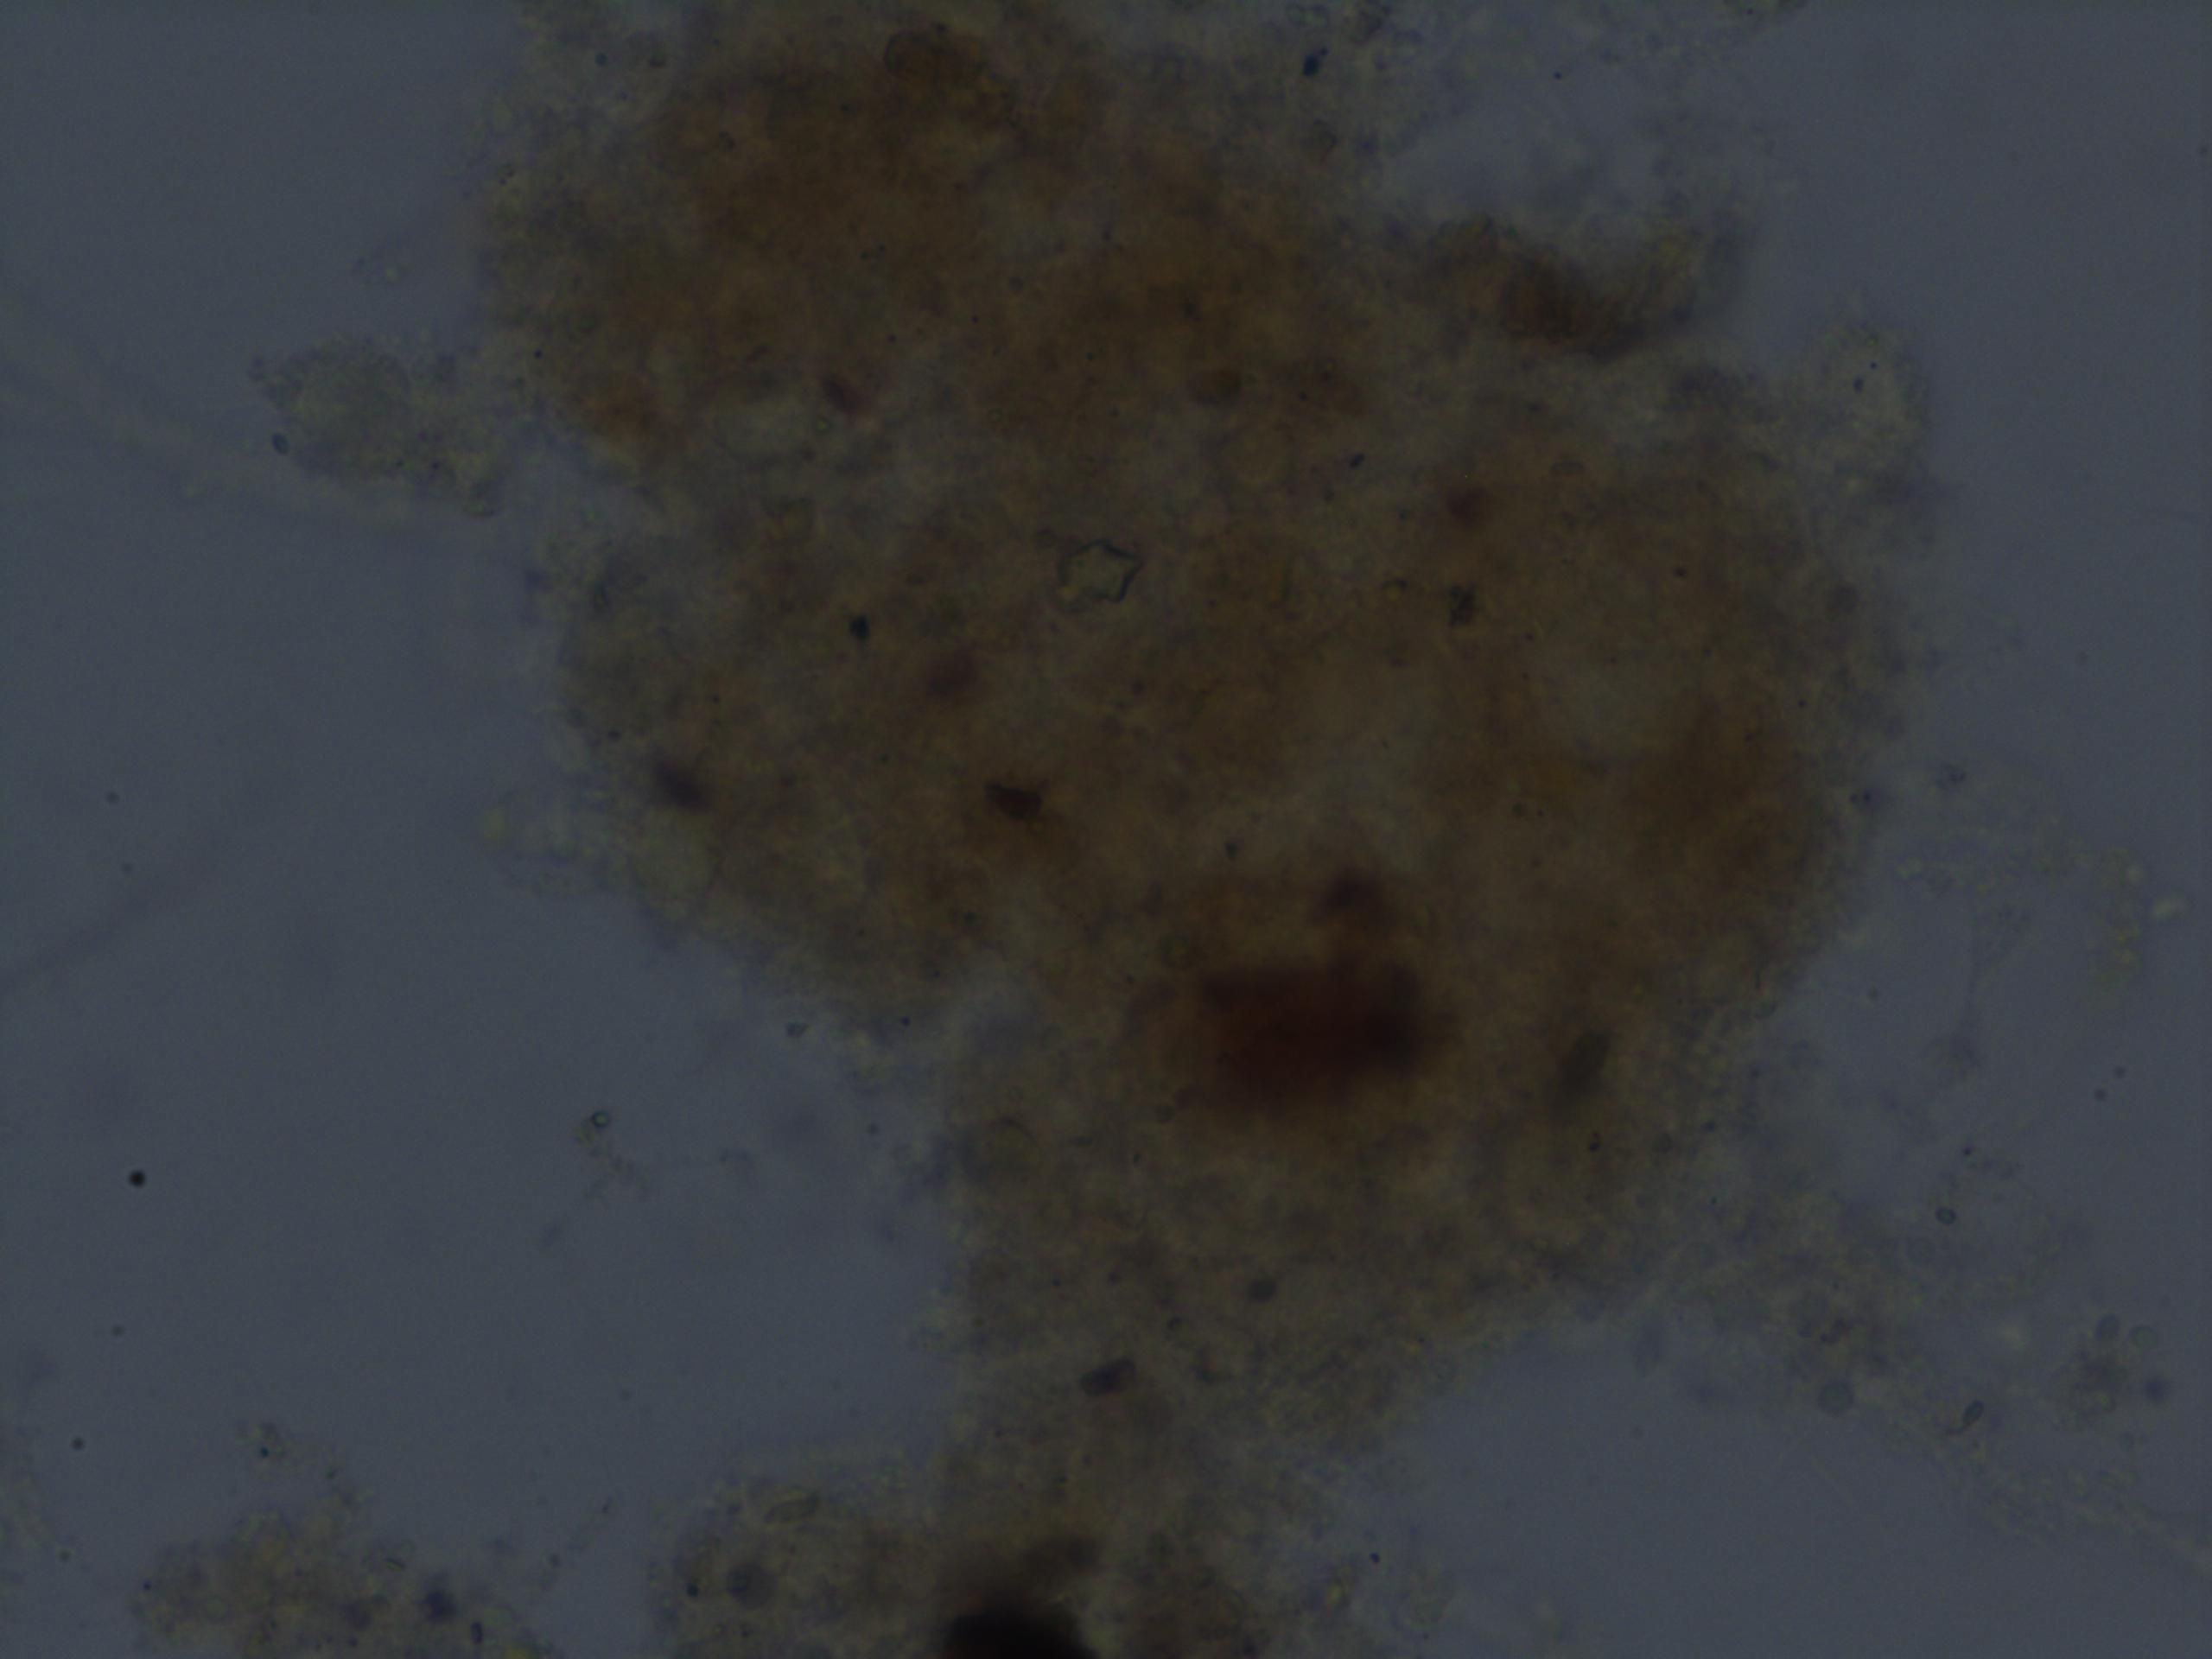spherical_floc: (460, 0, 1848, 1500)
